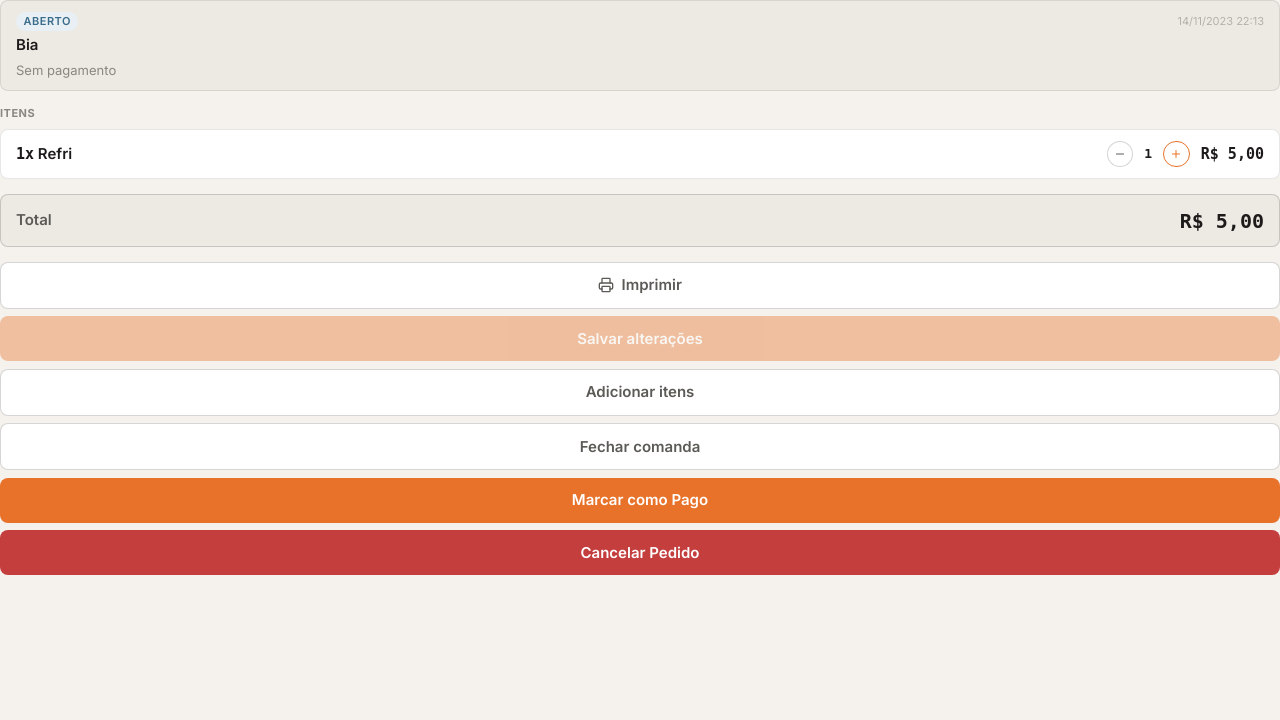
Test case: OrderDetail › cancela a remoção do item sem alterar o rascunho
Click the button named "Diminuir". click: x=1120, y=154
box: [1107,141,1133,167]
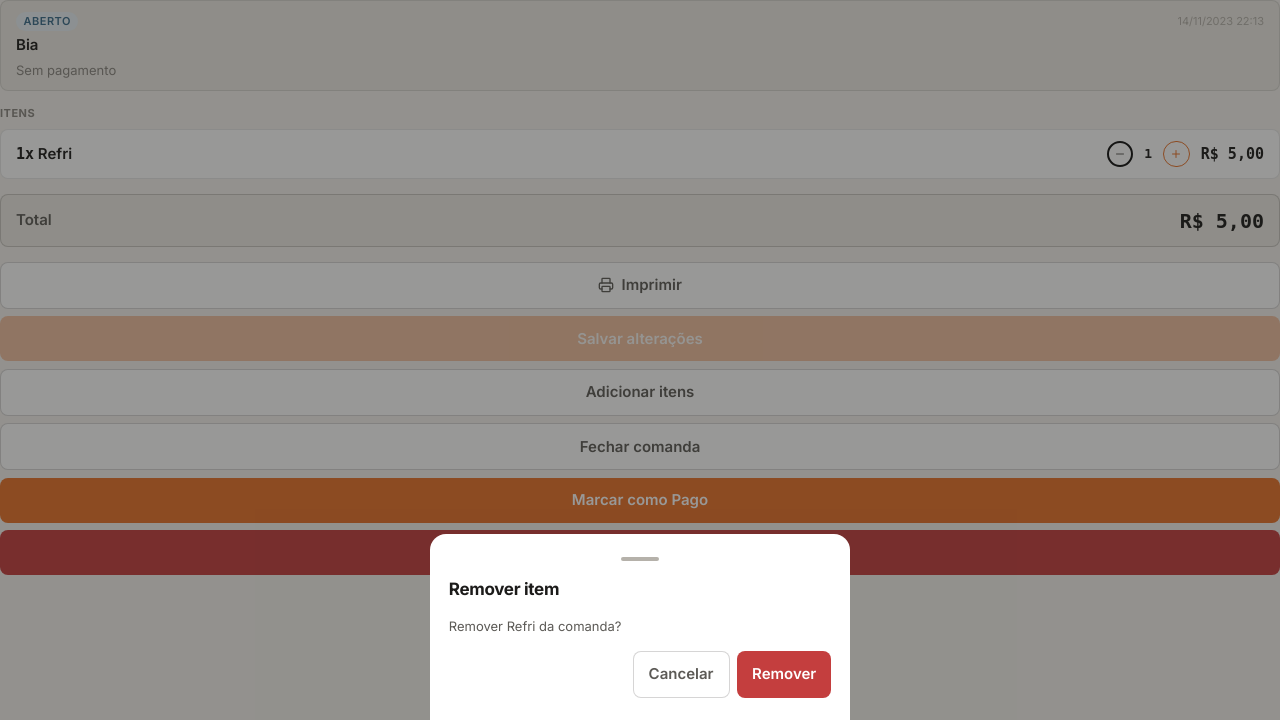
Click the button "Cancelar". click: x=681, y=674
box: [633,650,730,698]
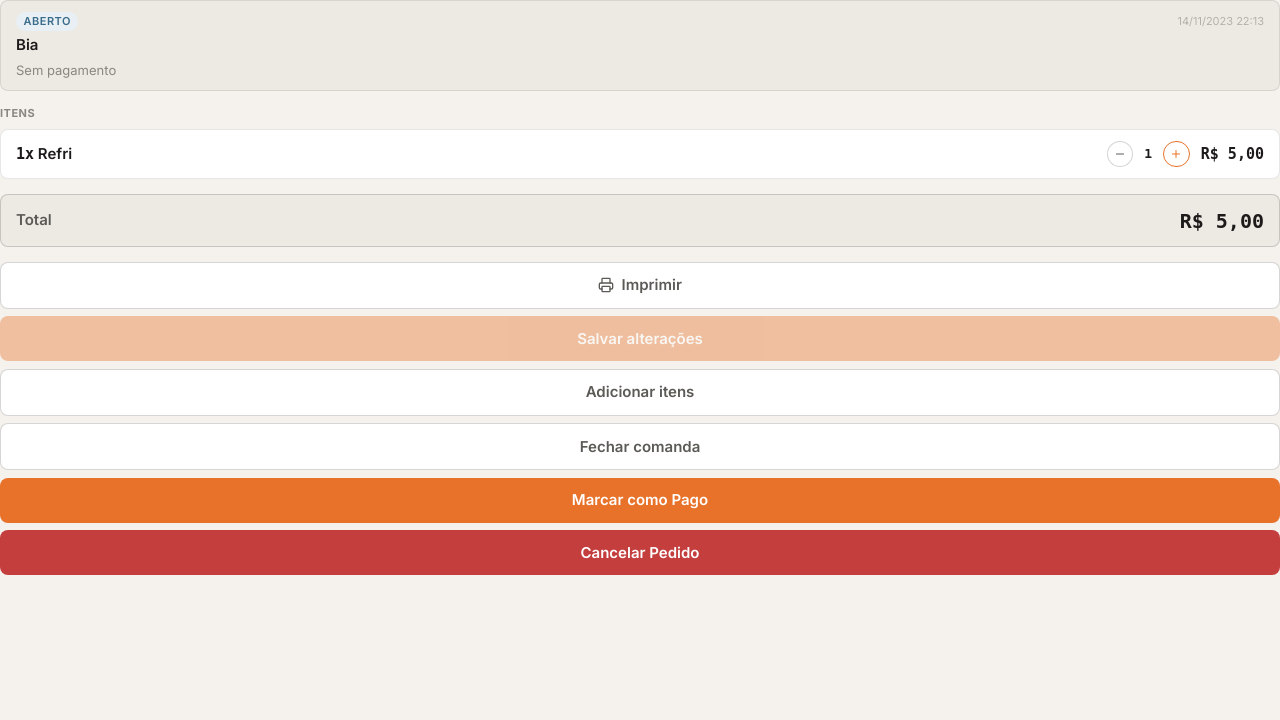
Expected: the button "Salvar alterações" is disabled, [0,316,1279,361]
Now the dialog is gone
